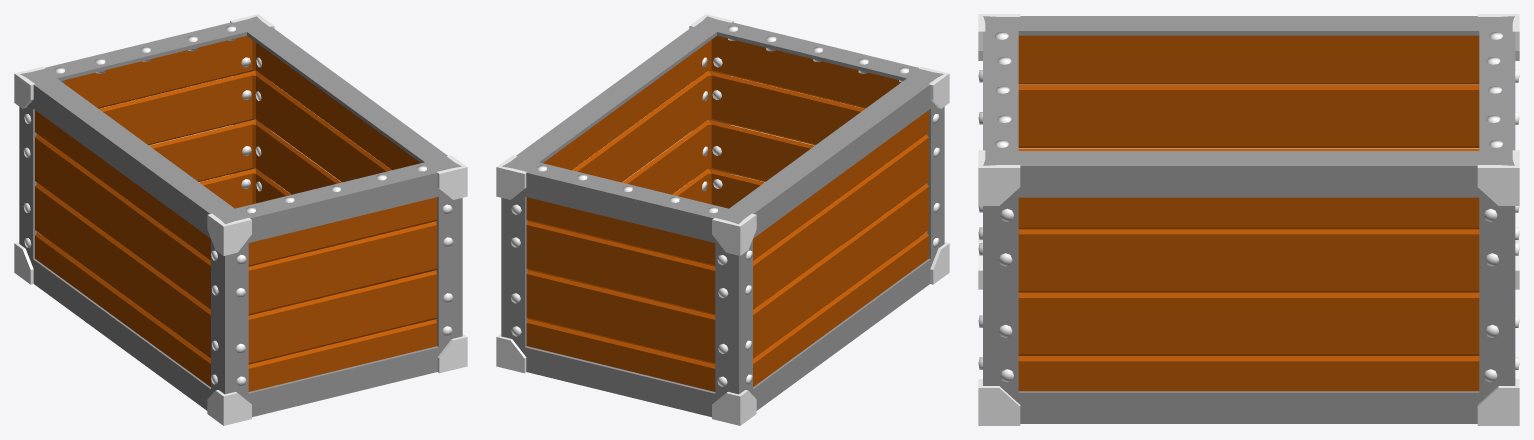
Rendered from ChestShortOpen.fbx.
3 views of the same model, side by side, from view 1: azimuth 30°, elevation 25°; view 2: azimuth 150°, elevation 25°; view 3: azimuth 270°, elevation 25° (orthographic). The views are drawn at different scales.
Parts seen in each view (by area): view 1: ChestShortOpen_LOD0; view 2: ChestShortOpen_LOD0; view 3: ChestShortOpen_LOD0.
Boxes of the visible parts, <box> form: ChestShortOpen_LOD0: <box>14,14,467,425</box>; ChestShortOpen_LOD0: <box>496,14,949,425</box>; ChestShortOpen_LOD0: <box>978,14,1519,425</box>.
Size of what is drawn, in the model's own units: 344 by 275 by 511.
